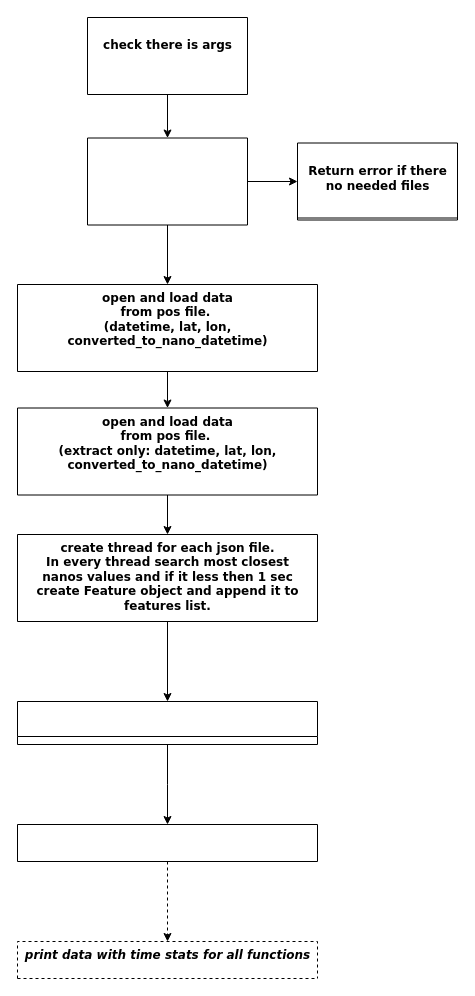
This 475x996 diagram has some shape labels left out. The shapes that lost their labels are listed below. From the top down, each one's centre as x and y in pixels, then its label:
[167,181]: search .json and .pos files in folder from args
[167,722]: calculate centroid of all features
[167,843]: dump features data to results.geojson
